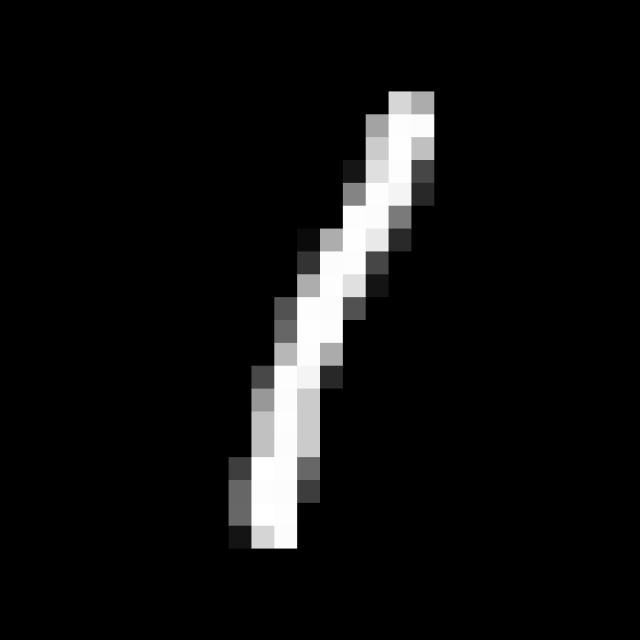one -1-: (210, 66, 470, 579)
